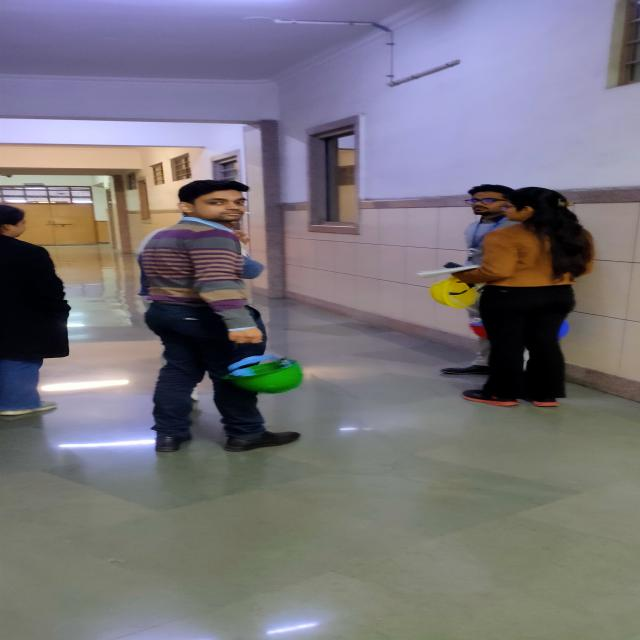unsafe: (141, 179, 308, 456), (424, 189, 592, 408), (0, 203, 69, 418), (467, 185, 515, 262)
